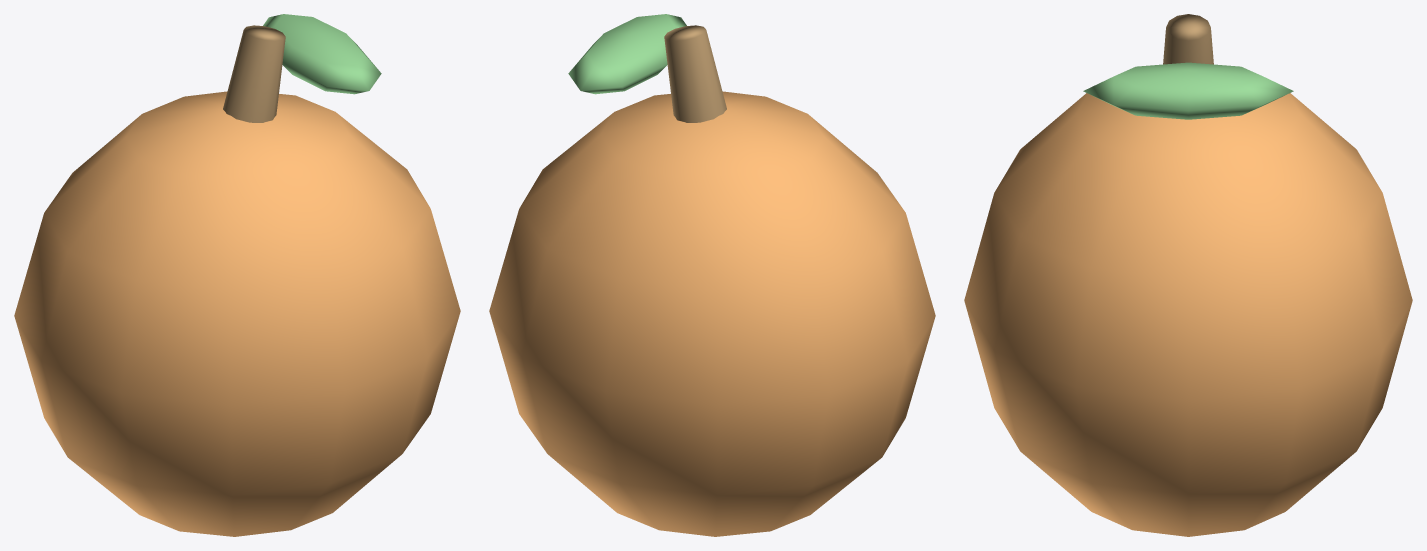
File: fruit_pickup.glb
The picture shows the model from 3 angles, left to right: view 1: azimuth 30°, elevation 25°; view 2: azimuth 150°, elevation 25°; view 3: azimuth 270°, elevation 25°; orthographic projection. The views are drawn at different scales.
Bounding box in the file's own units: 0.36 × 0.4235 × 0.34.
